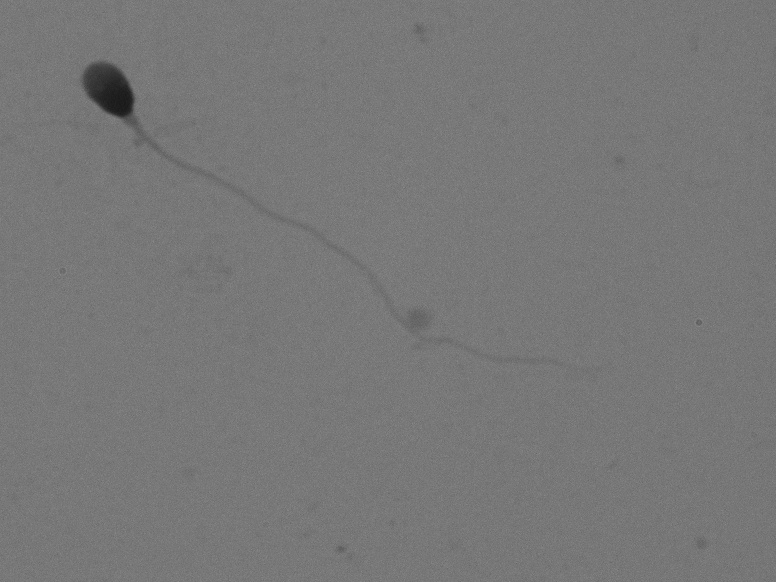Normal: (65, 50, 617, 403)
